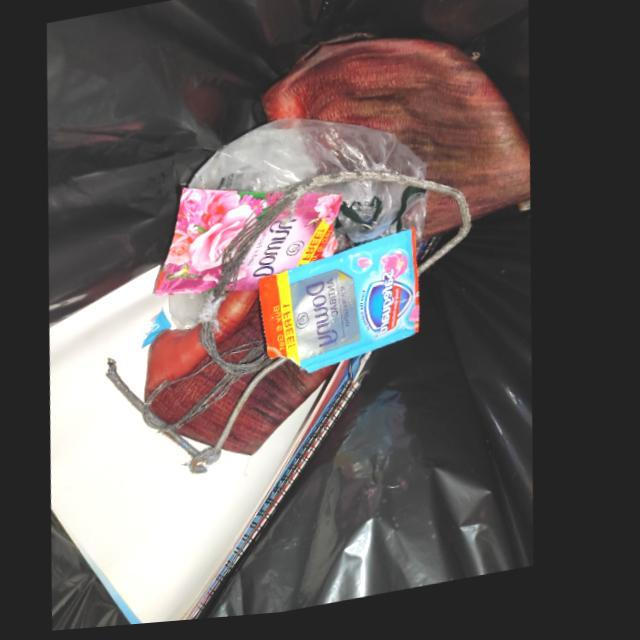biowaste: (262, 37, 534, 229), (152, 296, 346, 459)
paper: (55, 268, 379, 628)
plastic: (188, 122, 432, 252)
wrapper: (264, 235, 426, 379), (159, 190, 346, 299)
